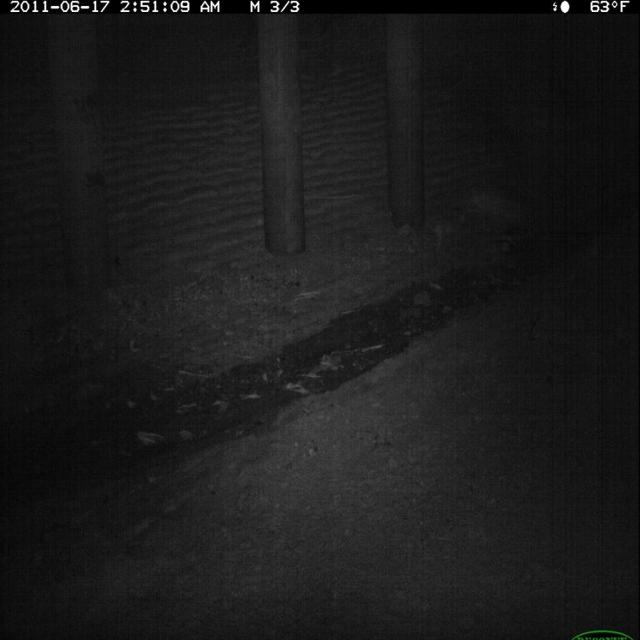bobcat: (429, 204, 471, 264)
